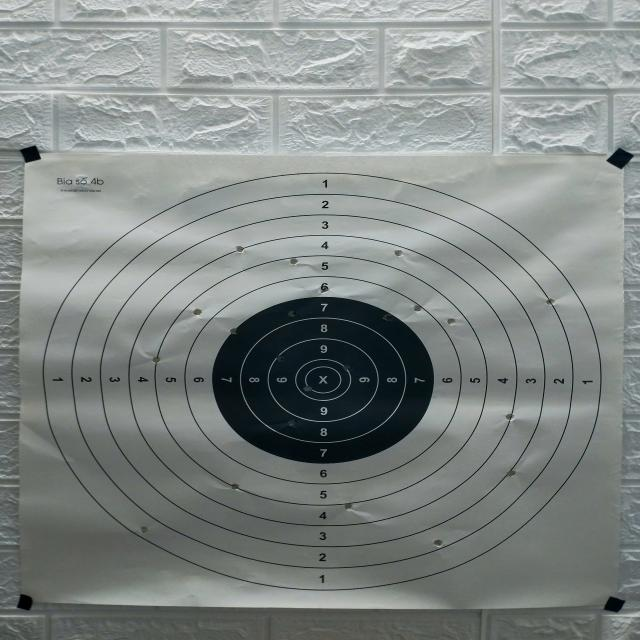bullet: (382, 314, 396, 321), (433, 539, 443, 548), (505, 469, 516, 477), (287, 419, 297, 427), (413, 304, 422, 312), (447, 318, 456, 326), (303, 384, 312, 392), (152, 357, 161, 365), (546, 298, 555, 306), (235, 246, 245, 253), (193, 308, 201, 316), (344, 503, 353, 510), (319, 286, 329, 292), (290, 258, 298, 265), (288, 310, 296, 317), (140, 526, 148, 533), (343, 364, 351, 371), (230, 484, 239, 490), (506, 414, 513, 421), (276, 355, 283, 362), (394, 250, 402, 256), (229, 328, 236, 334)
target: (20, 152, 623, 609)
